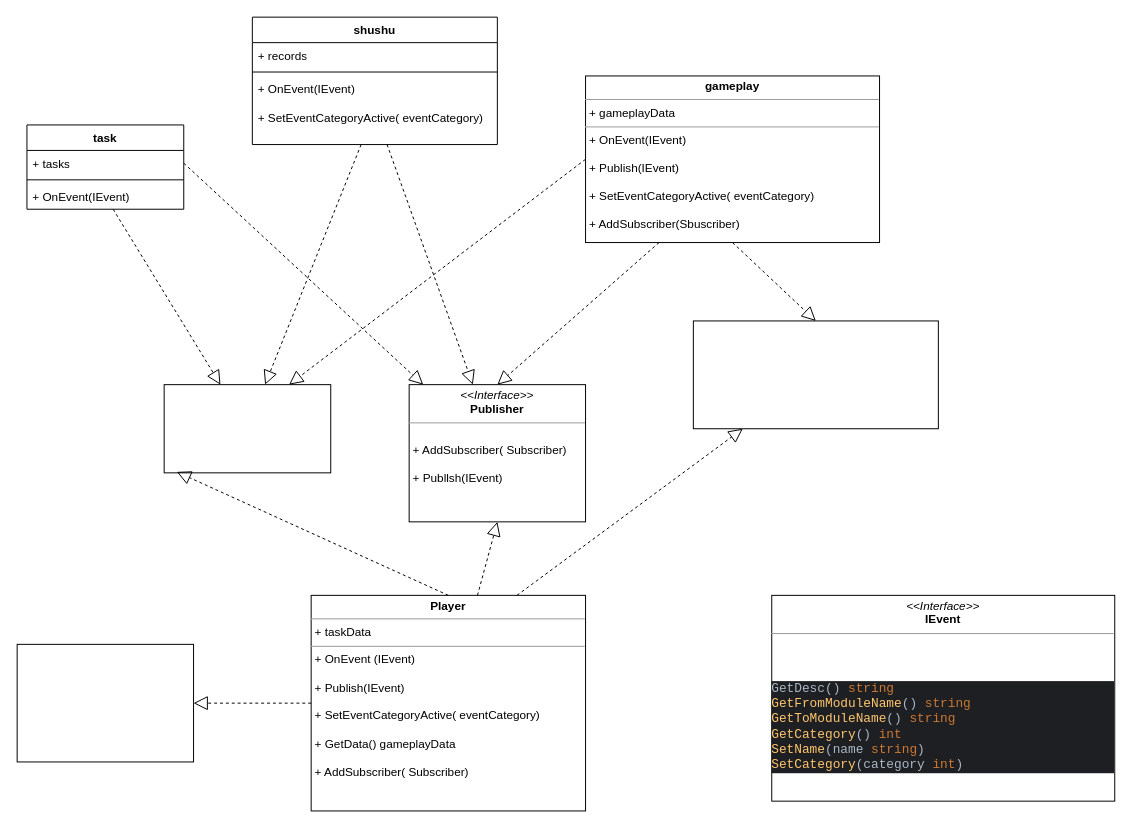
Image size: 1132x828. Some labels were removed from this diagram. The shapes that lost their labels are listed below. From the top down, each one's centre as x and y in pixels, then its label:
[815,374]: <<Interface>> IModule + SetEventCategoryActive( eventCategory )
[247,428]: <<Interface>> Subscriber + OnEvent(IEvent)
[105,702]: <<Interface>> IPlayer + GetData () gameplayData
